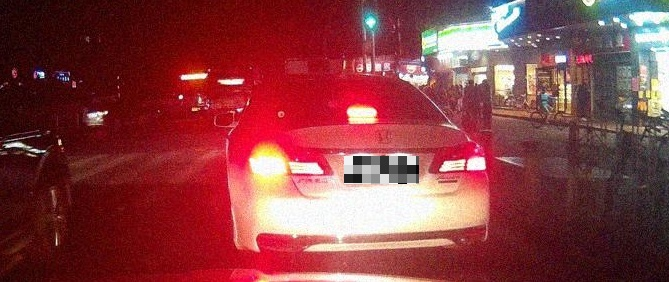L_light: (249, 145, 334, 176)
R_light: (427, 140, 487, 175)
T_light: (346, 105, 377, 119)
night-left: (231, 73, 492, 256)
plate_1: (344, 156, 419, 184)
